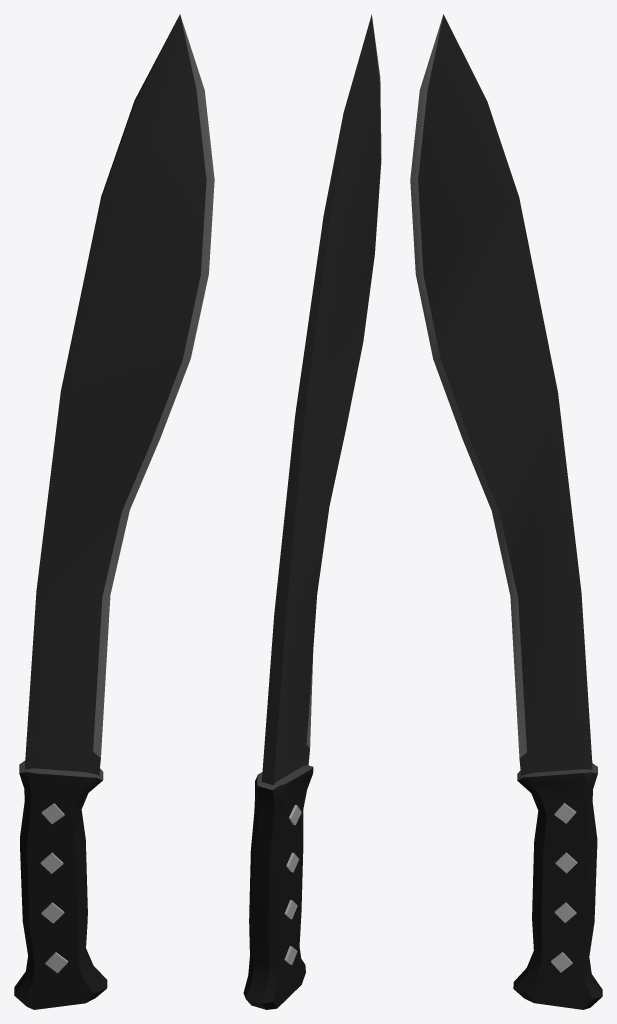
Rendered from Kukri_ML.glb.
3 views of the same model, side by side, from view 1: azimuth 90°, elevation 25°; view 2: azimuth 150°, elevation 25°; view 3: azimuth 270°, elevation 25° (orthographic). The views are drawn at different scales.
Visible parts, largest first — view 1: Kukri; view 2: Kukri; view 3: Kukri.
Boxes of the visible parts, x1=… form: Kukri: x1=14, y1=14, x2=214, y2=1009; Kukri: x1=243, y1=14, x2=381, y2=1009; Kukri: x1=410, y1=14, x2=602, y2=1009.
Size of the model in its own units: 0.0519 by 0.8411 by 0.1512.
Materials: 1 (1 with a texture image).
